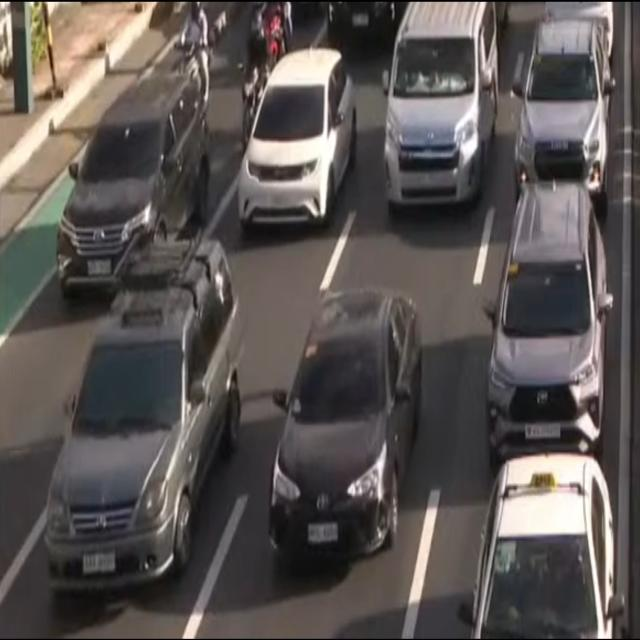Motorcycle: (242, 0, 280, 151), (175, 0, 218, 127)
SUV: (50, 239, 242, 588), (479, 184, 609, 455), (57, 70, 209, 286), (517, 18, 610, 197)
Sedan: (265, 299, 422, 557), (465, 456, 617, 640), (239, 51, 358, 232)
Van: (387, 0, 498, 215)
